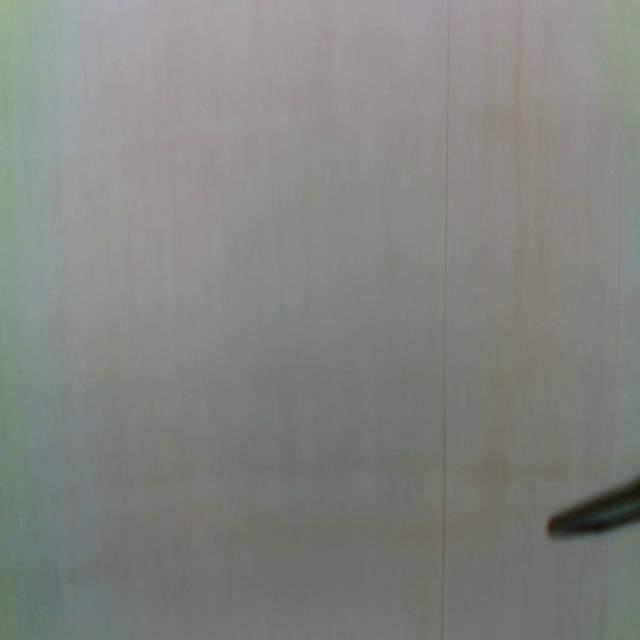crease: (440, 1, 453, 640)
